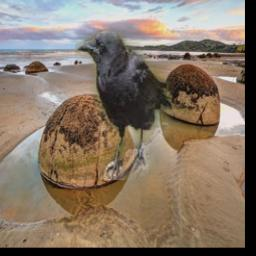Crow: (76, 30, 172, 180)
